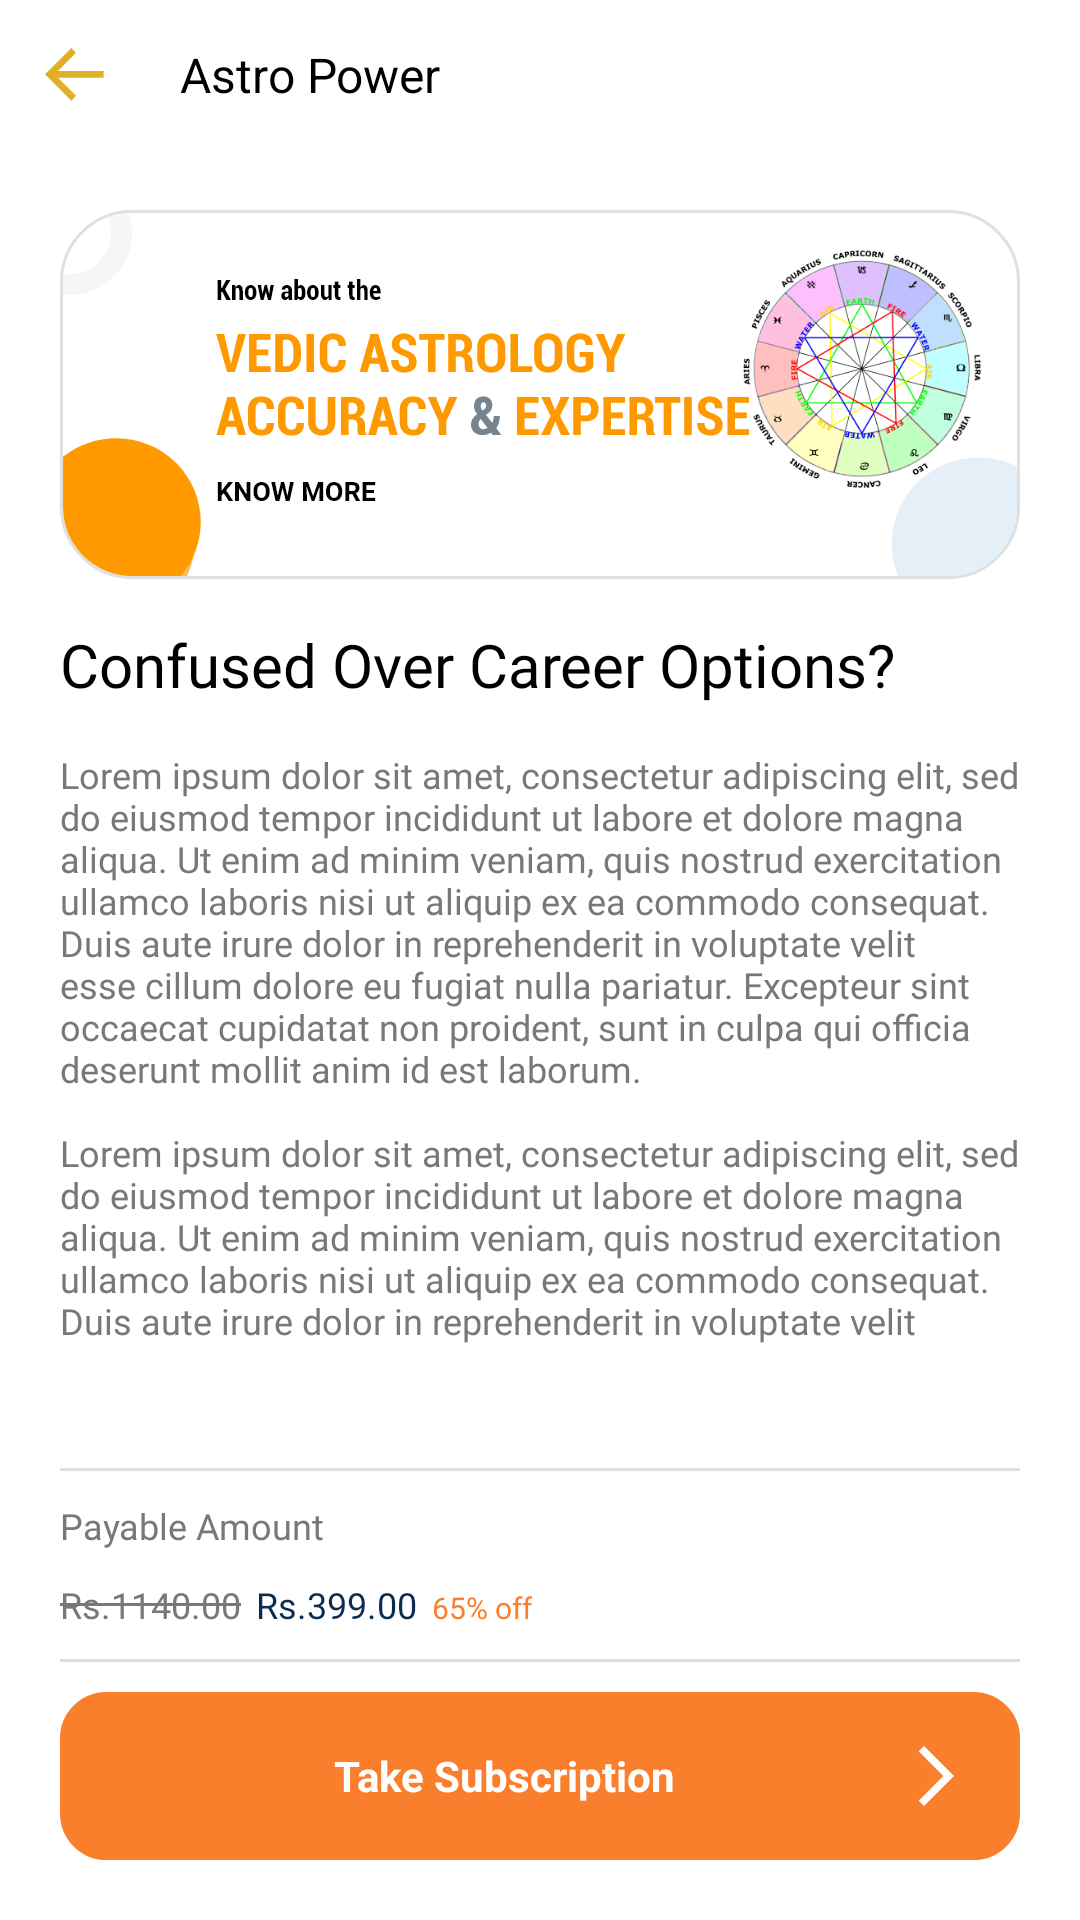

Icon bounding boxes for this 1080 × 1920 phone screenshot, format box(x1, y1, x2, y2):
arrow back: box(45, 48, 104, 101)
